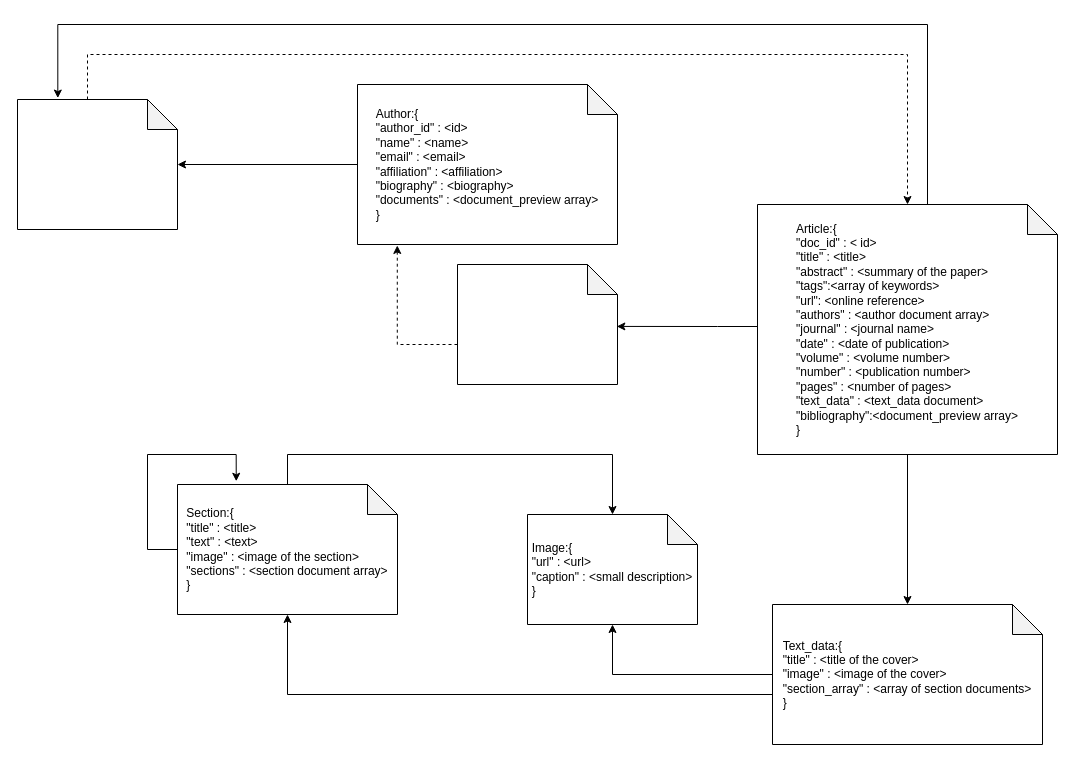
Some shapes in this 1075 by 762 pixel diagram are drawn without their labels. Here are the shapes that lost their labels. From the top down, the centre of each, then its label:
pixel 97 164: Article_preview:{ "id_doc" : <id> "title" : <title> "date" : <date> }
pixel 537 324: Author_preview:{ "id_aut" : <id> "name" : <name> "surname" : <surname> }
